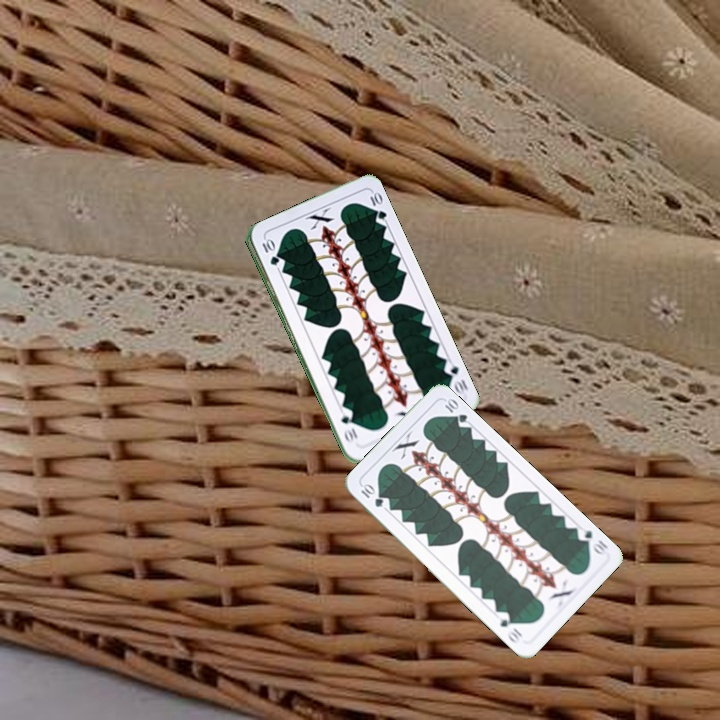G10: (573, 523, 611, 557), (440, 357, 471, 396), (357, 480, 386, 510), (258, 235, 280, 268)
